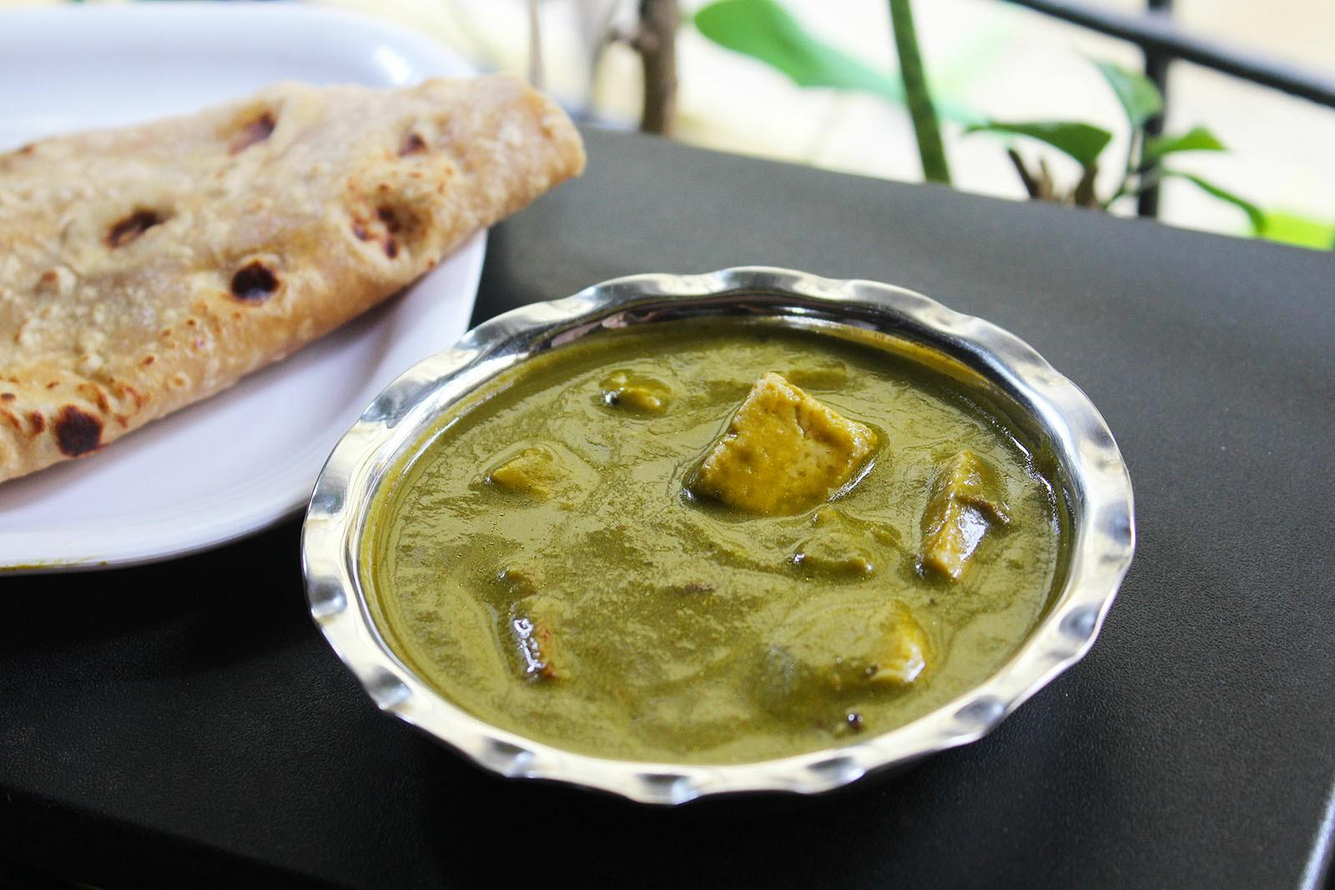PalakPaneer: (380, 332, 1064, 759)
